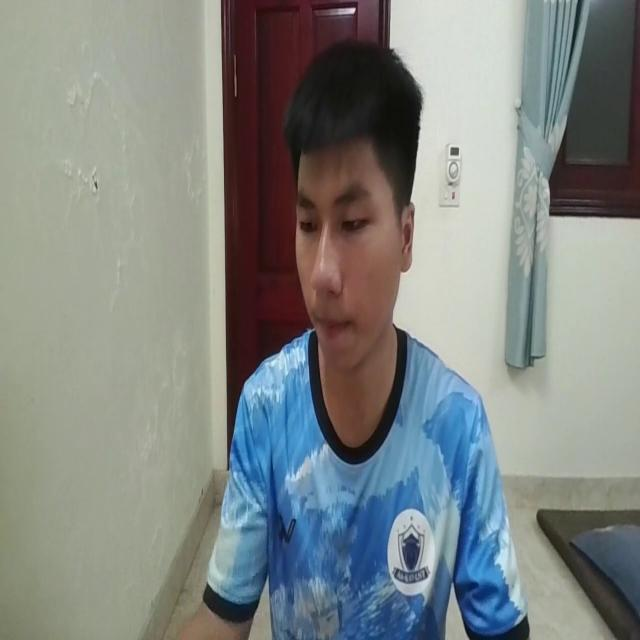student: (173, 33, 530, 640)
